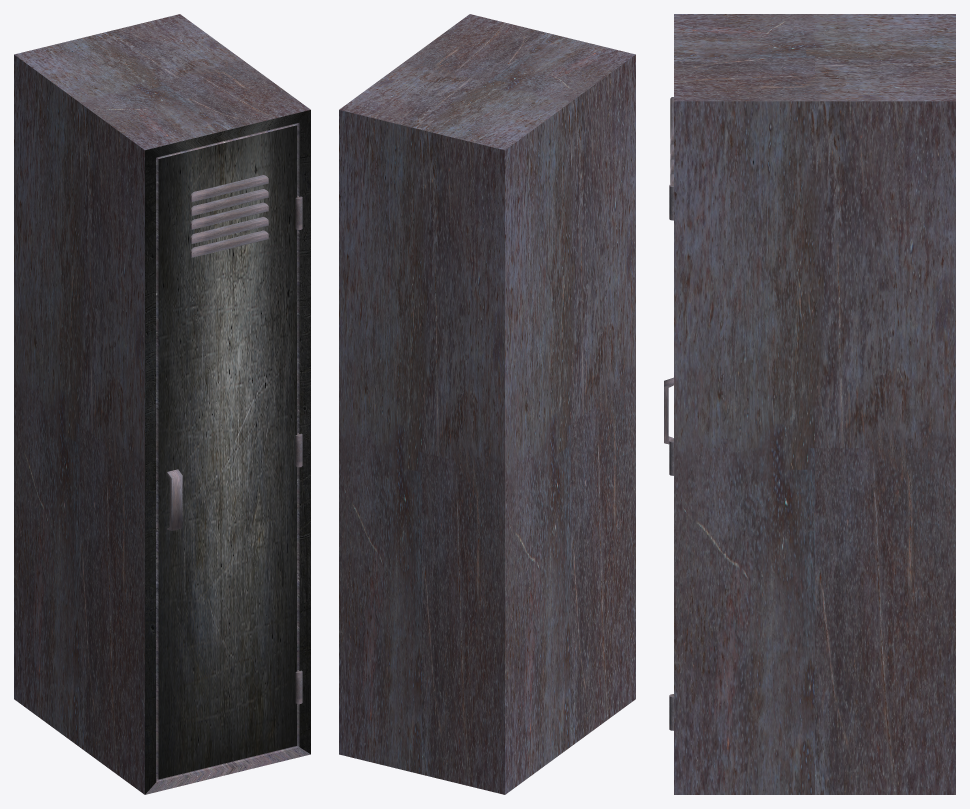
File: lockerthing.glb
3 renders of one model, left to right at view 1: azimuth 30°, elevation 25°; view 2: azimuth 150°, elevation 25°; view 3: azimuth 270°, elevation 25°, orthographic. The views are drawn at different scales.
Parts seen in each view (by area): view 1: Cube_3_2.001, Cube_1_2.001, Cube_4_2.001, Cube_2_3.001, Cube_3_3.001, Cube_5_2.001, Cube_6_2.001; view 2: Cube_3_2.001; view 3: Cube_3_2.001.
Part boxes in pixels (x1,y1,x2,y2): Cube_3_2.001: (14,14,310,794); Cube_1_2.001: (167,469,182,530); Cube_4_2.001: (190,202,268,229); Cube_2_3.001: (190,230,268,257); Cube_3_3.001: (190,217,268,243); Cube_5_2.001: (190,189,268,215); Cube_6_2.001: (190,175,268,201); Cube_3_2.001: (339,14,635,794); Cube_3_2.001: (674,14,955,794).
Bounding box in the file's own units: 1.73 × 6.4 × 2.44.
Materials: 3 (3 with a texture image).
